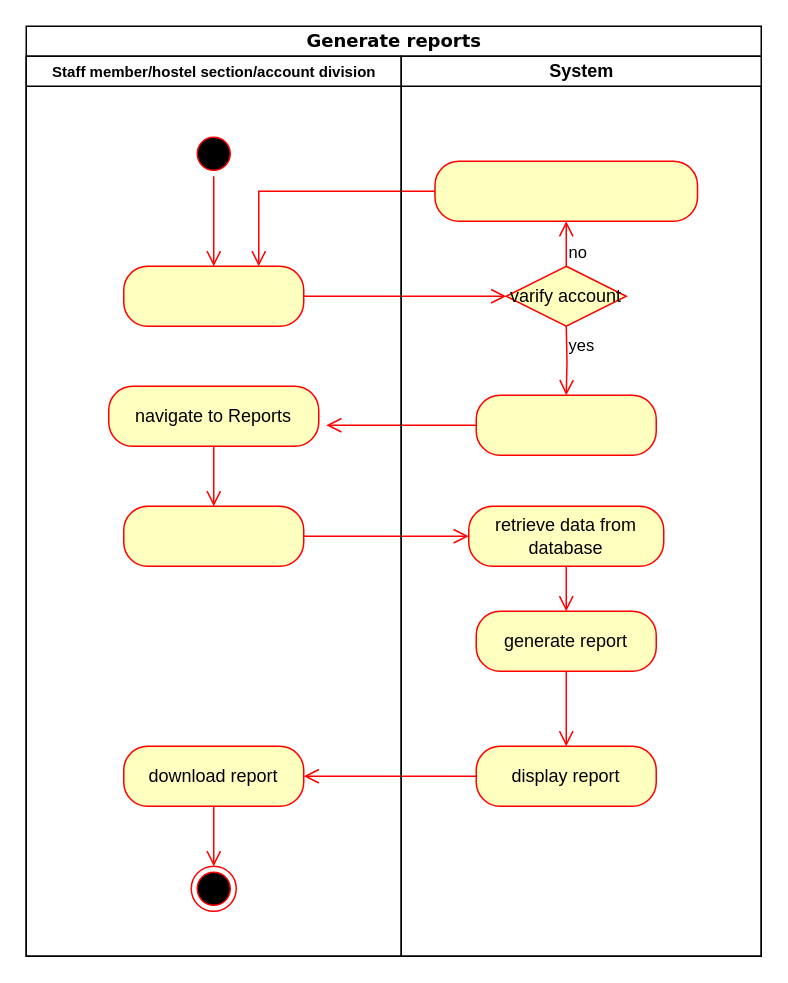
This 788x983 diagram has some shape labels left out. Each missing label, with the centre of its shape:
choose the report that want to generate: (213,535)
give access: (565,424)
log into the system: (213,295)
Request to log in again with correct username and passowrd: (566,190)
